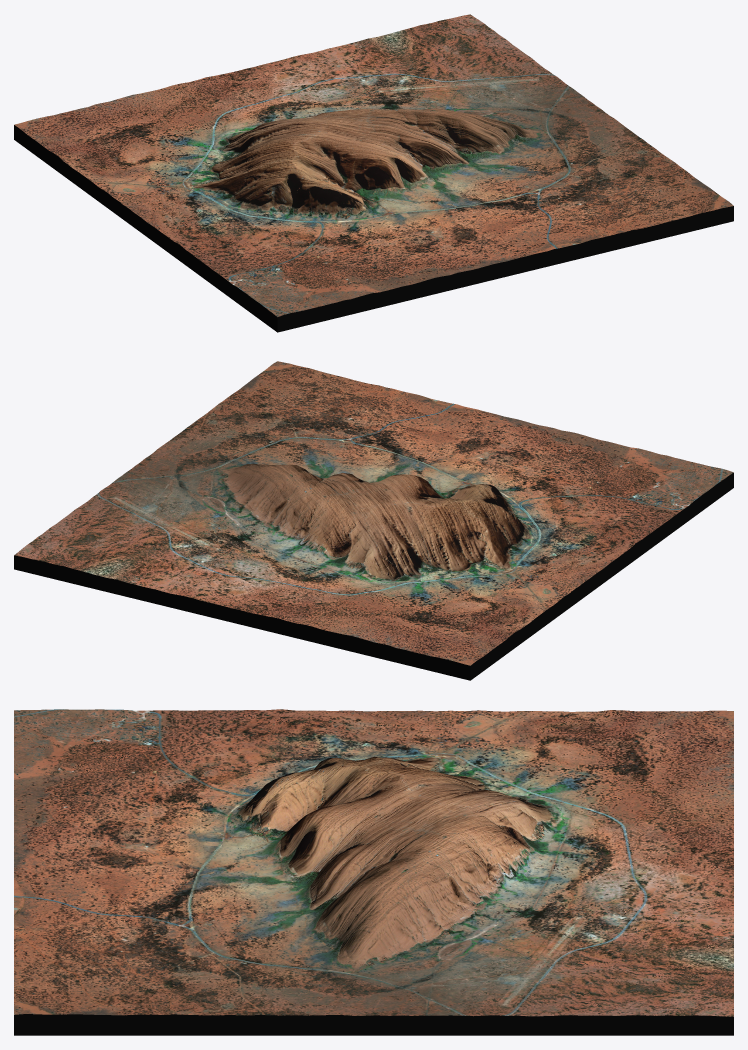
3 views of the same model, one above another, from view 1: azimuth 30°, elevation 25°; view 2: azimuth 150°, elevation 25°; view 3: azimuth 270°, elevation 25° (orthographic). The views are drawn at different scales.
Parts seen in each view (by area): view 1: Object_2, Object_3; view 2: Object_2, Object_3; view 3: Object_2, Object_3.
Boxes of the visible parts, x1,y1,x2,y2 form: Object_2: (14,14,733,316); Object_3: (14,125,733,332); Object_2: (14,361,733,665); Object_3: (14,472,733,680); Object_2: (14,709,733,1016); Object_3: (14,1014,733,1035).
Bounding box in the file's own units: 4968 × 491 × 4968.
Materials: 2 (1 with a texture image).
